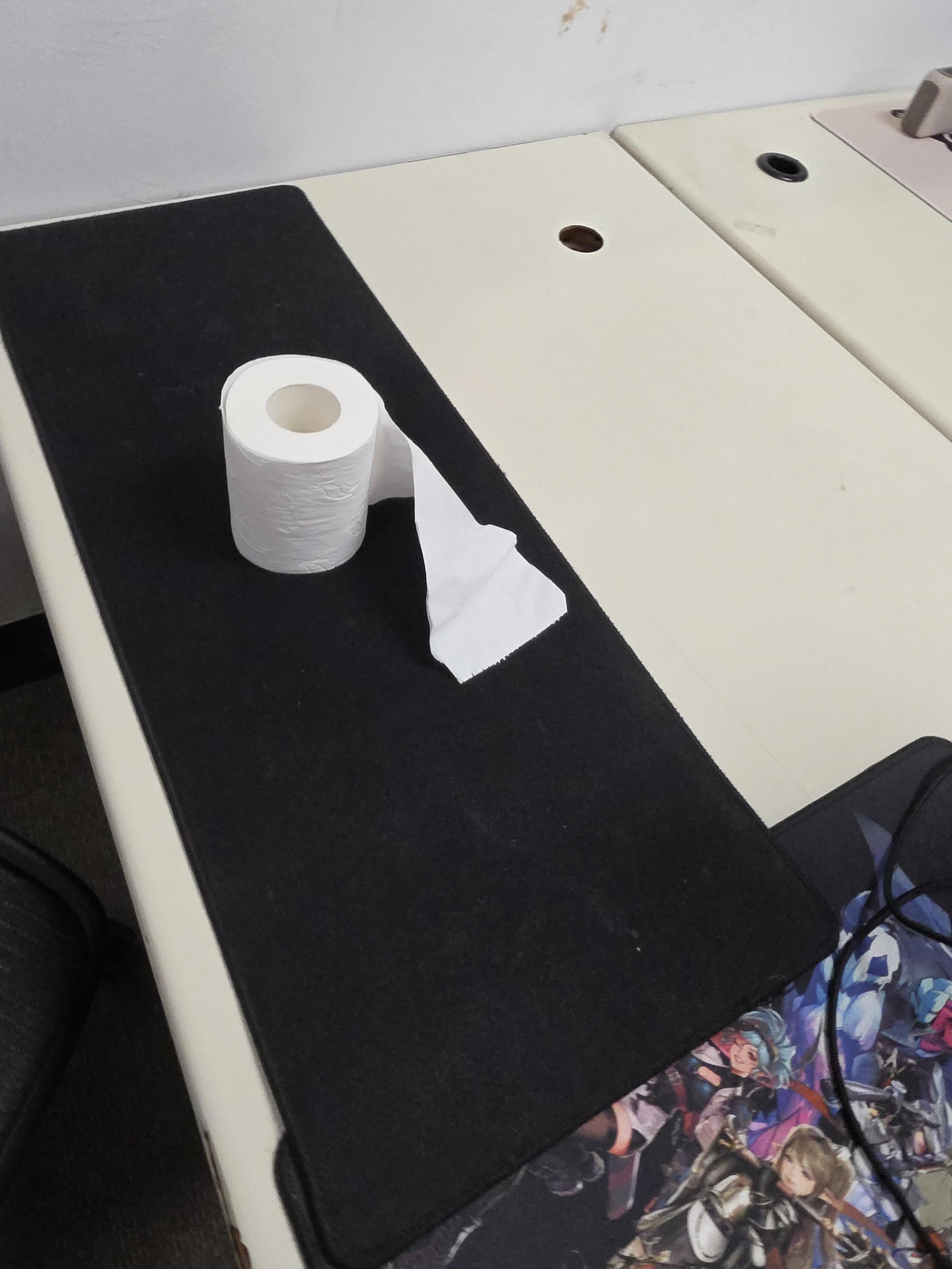tissue: (218, 354, 568, 685)
